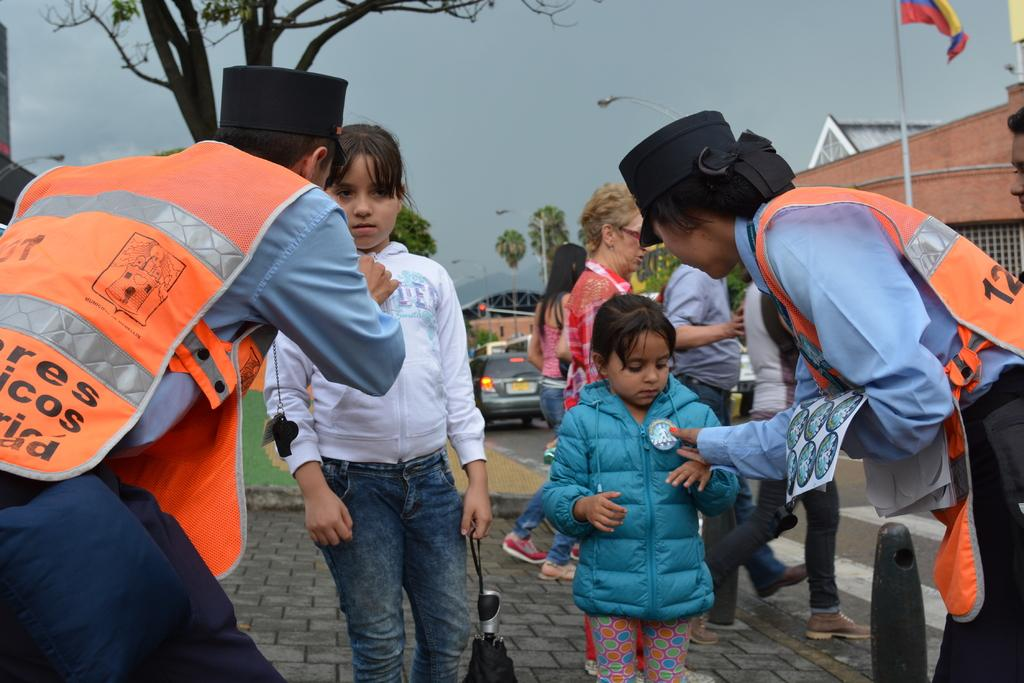Hat: (618, 109, 796, 248), (220, 63, 346, 167)
